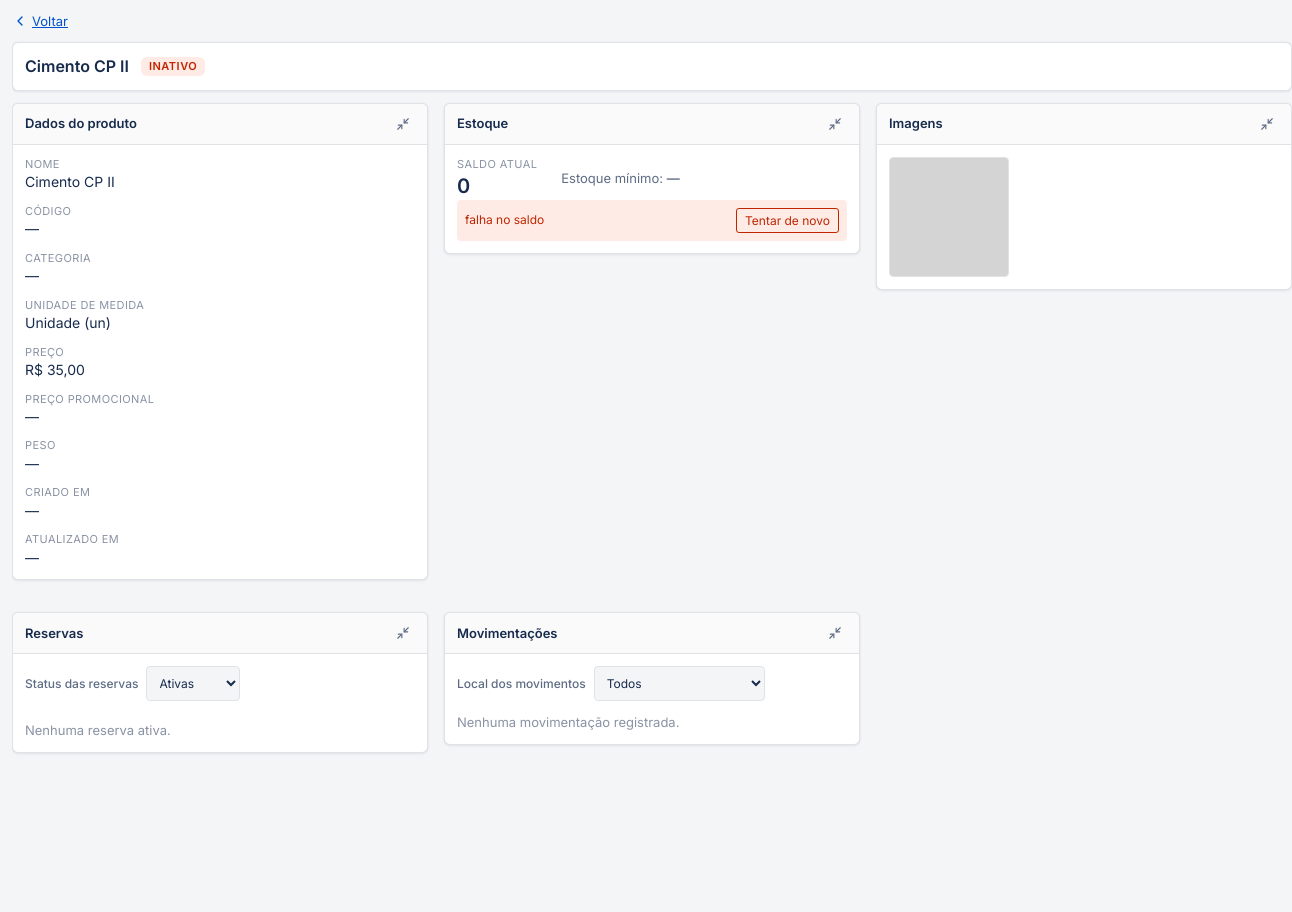
Test: ProdutoDetalhe › mostra a falha do saldo sem derrubar o detalhe e tenta de novo
The image size is (1292, 912).
Expected: the text "falha no saldo" is shown, [465,212,544,229]
Expected: the text "Cimento CP II" next to "Inativo" is shown, [25,56,129,76]
What coordinates should you click on to do the following:
click the button "Tentar de novo"
I would click on:
 (788, 220)
Its box is [736,208,839,233].
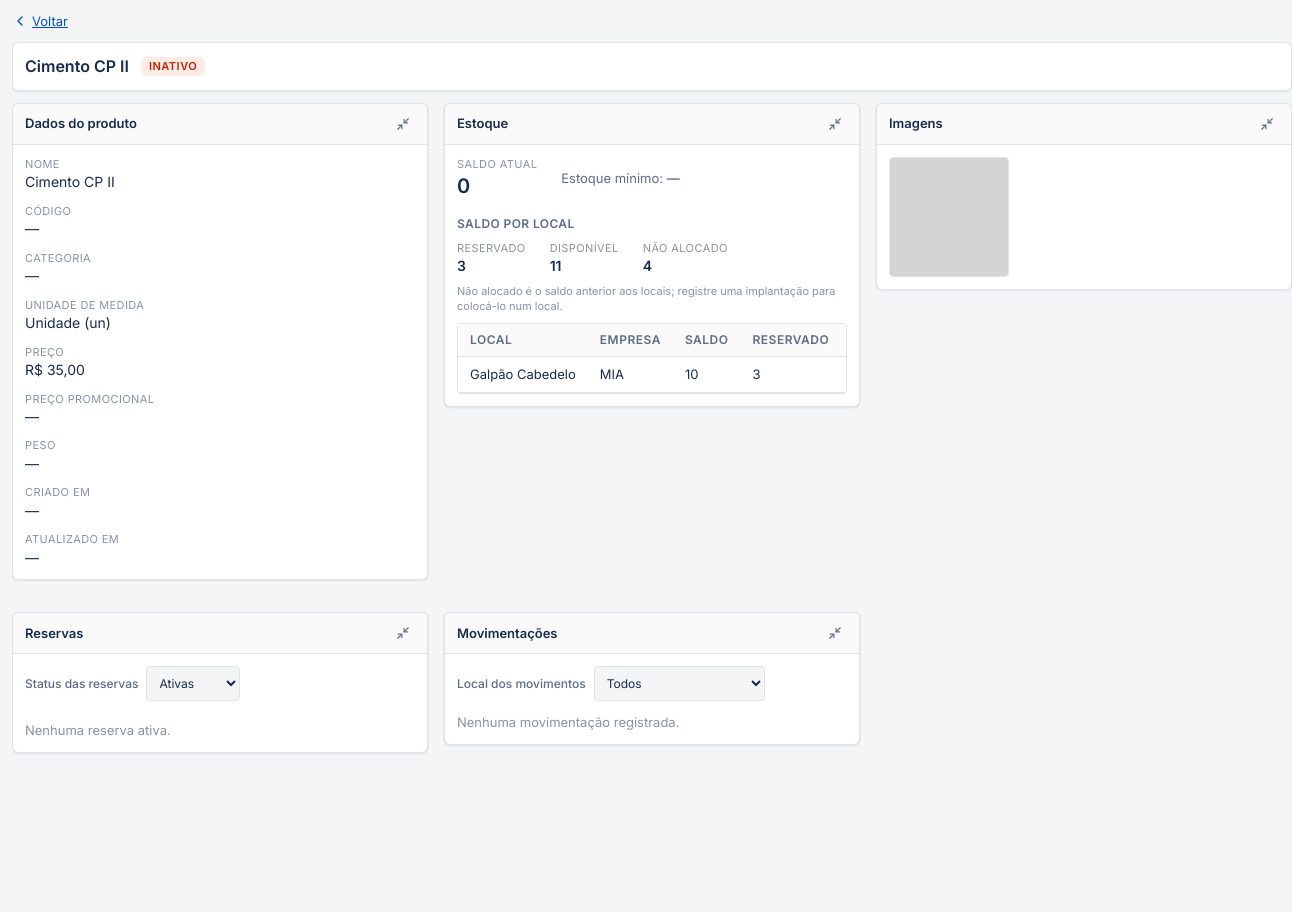
Expected: the heading "Saldo por local" is shown, [457,216,575,231]
Expected: the text "falha no saldo" is gone
